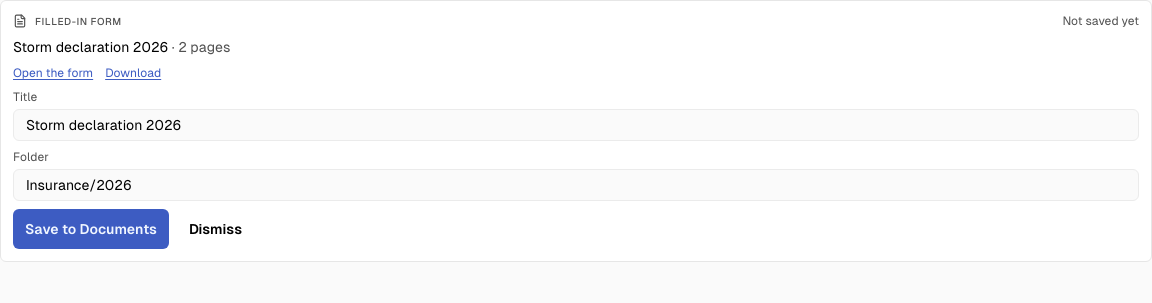
Scenario: AssistantFormDraftCard › a network failure on Save is shown too
This screenshot has width=1152, height=303.
Click the button "Save to Documents" at (91, 229), box [13,209,169,249]
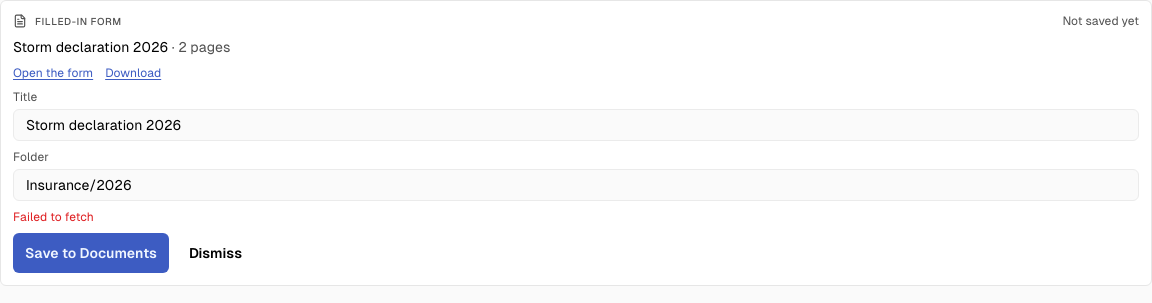
Result: the message reads "Failed to fetch" at [13,210,94,224]
